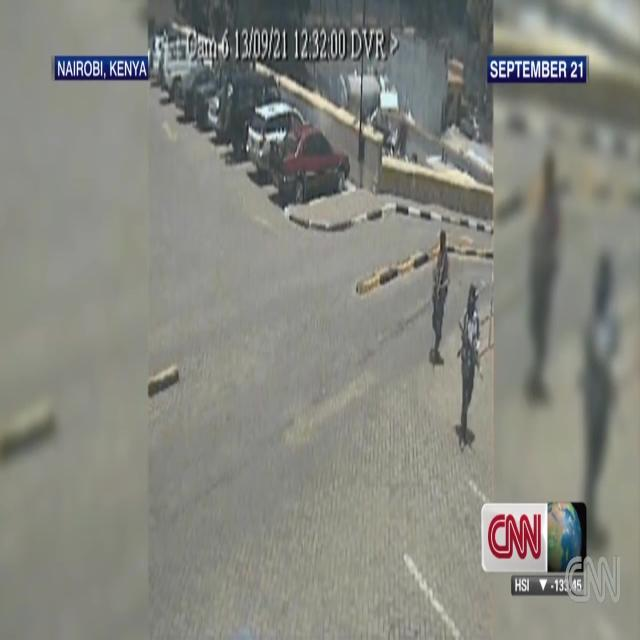Weapon: (461, 310, 488, 386), (433, 250, 449, 324)
